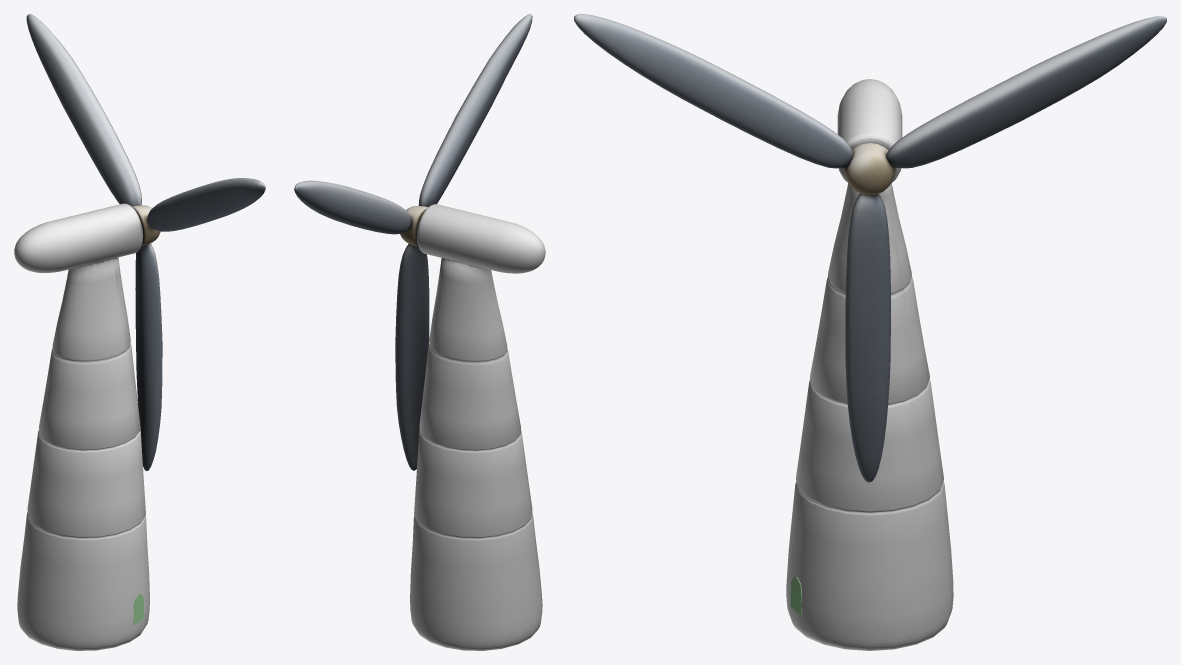
File: P112_toy.fbx
3 views of the same model, side by side, from view 1: azimuth 30°, elevation 25°; view 2: azimuth 150°, elevation 25°; view 3: azimuth 270°, elevation 25° (orthographic). The views are drawn at different scales.
Visible parts, largest first — view 1: tower, balde; view 2: tower, balde; view 3: tower, balde.
Part boxes in pixels (left/top/right/bottom): tower: left=14, top=203, right=149, bottom=650; balde: left=26, top=14, right=265, bottom=470; tower: left=410, top=204, right=545, bottom=650; balde: left=294, top=14, right=532, bottom=470; tower: left=786, top=79, right=953, bottom=650; balde: left=574, top=14, right=1166, bottom=482.
Bounding box in the file's own units: 3.3 × 11.64 × 9.42.
